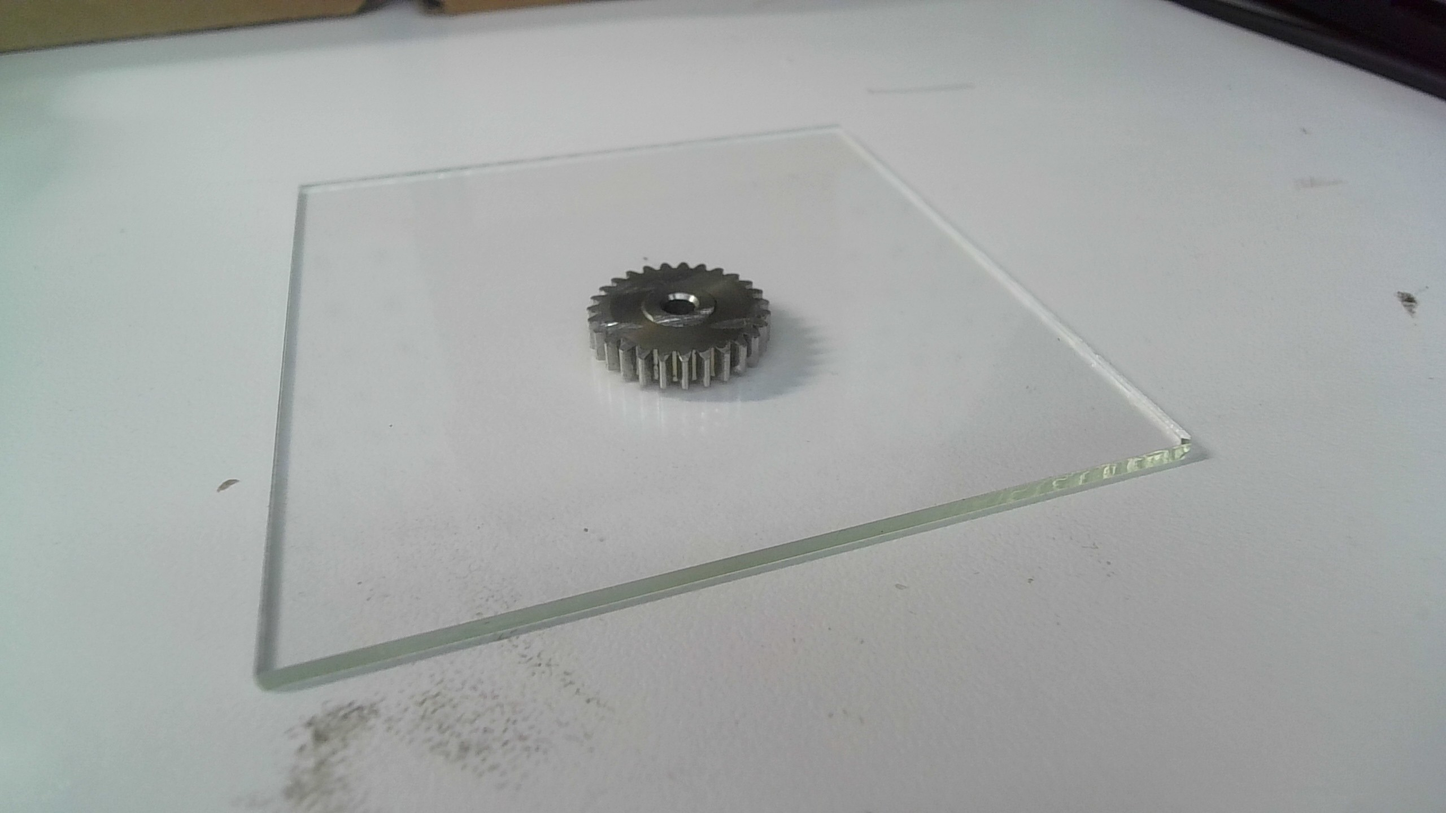gear: (585, 260, 776, 396)
